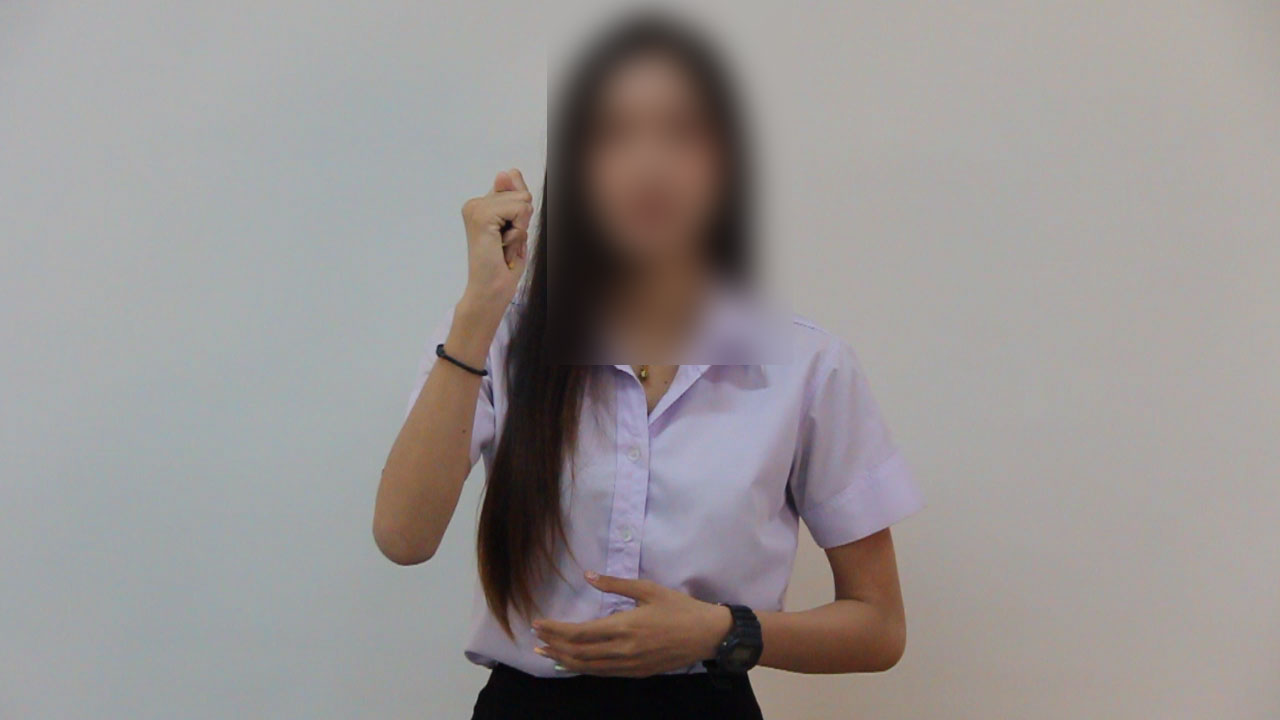tor: (438, 160, 567, 313)
